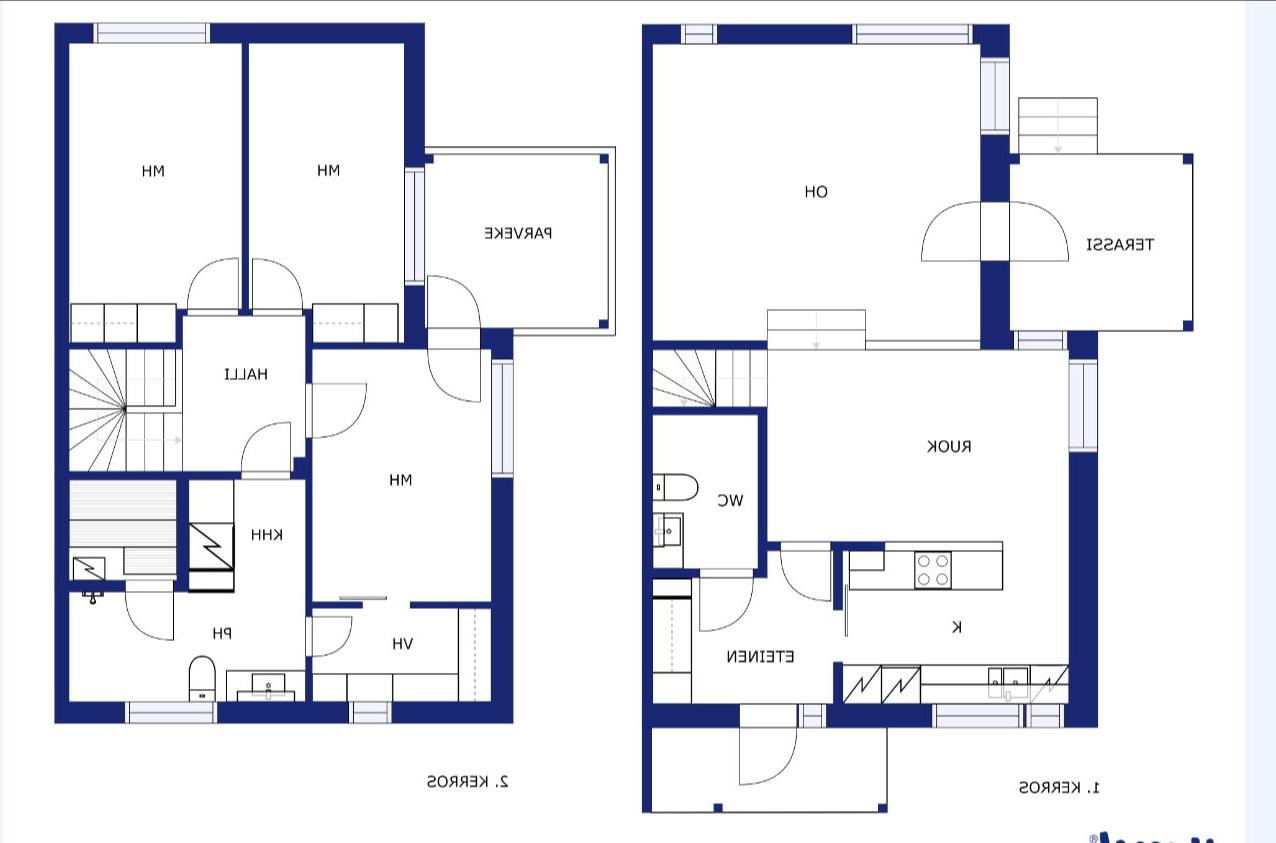bathroom: (67, 590, 302, 704), (650, 412, 760, 571)
door: (910, 197, 1010, 267), (977, 200, 1075, 270), (733, 698, 801, 792), (421, 327, 483, 408), (426, 270, 483, 348), (776, 537, 838, 603), (303, 381, 372, 440), (120, 578, 176, 648), (699, 566, 756, 630), (186, 253, 240, 316), (252, 254, 306, 316), (241, 420, 296, 476), (301, 612, 357, 658)
perimeter: (52, 20, 522, 726), (638, 20, 1098, 728)
stairs: (648, 347, 770, 409), (68, 408, 181, 471), (68, 350, 182, 406)
window: (78, 17, 220, 50), (1064, 347, 1104, 463), (971, 50, 1017, 146), (846, 18, 983, 50), (485, 350, 518, 480), (399, 161, 428, 291), (115, 698, 225, 730), (924, 701, 1027, 732), (342, 696, 402, 724), (1020, 701, 1074, 729), (673, 20, 725, 47), (792, 699, 832, 726)
